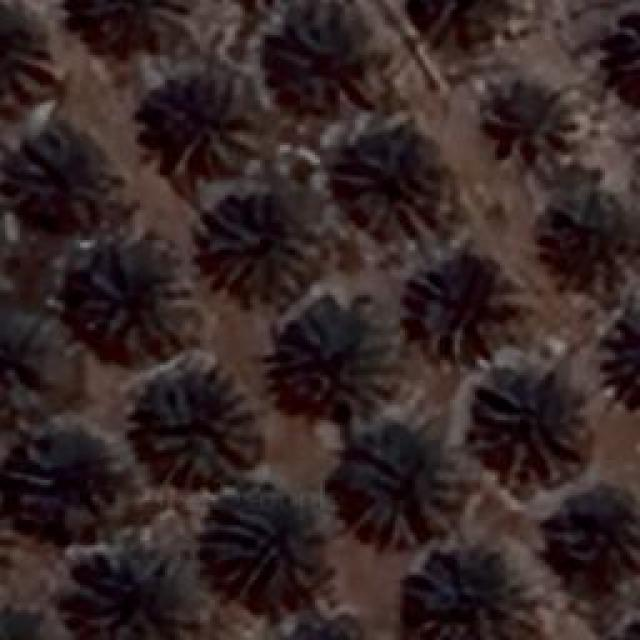PalmTree: (57, 34, 617, 356), (344, 437, 468, 545), (31, 122, 57, 623), (275, 310, 395, 415), (147, 380, 265, 482), (68, 550, 198, 640), (12, 420, 126, 522), (77, 245, 185, 350), (202, 200, 316, 292), (10, 135, 128, 223), (475, 382, 580, 480), (409, 555, 529, 640), (202, 502, 316, 590), (161, 76, 264, 169), (540, 194, 635, 294), (412, 261, 512, 349), (272, 21, 378, 104), (557, 490, 640, 577), (350, 147, 432, 235), (0, 309, 72, 409), (70, 0, 190, 58), (480, 84, 565, 156), (0, 3, 52, 108), (401, 0, 501, 52), (612, 16, 640, 106), (272, 617, 378, 640), (272, 622, 378, 640)
